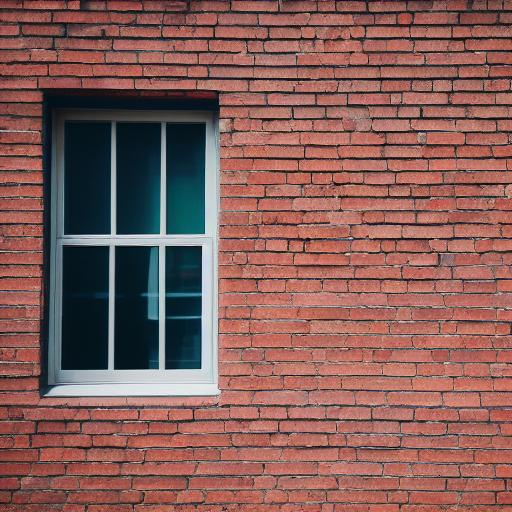Window: (35, 86, 226, 406)
